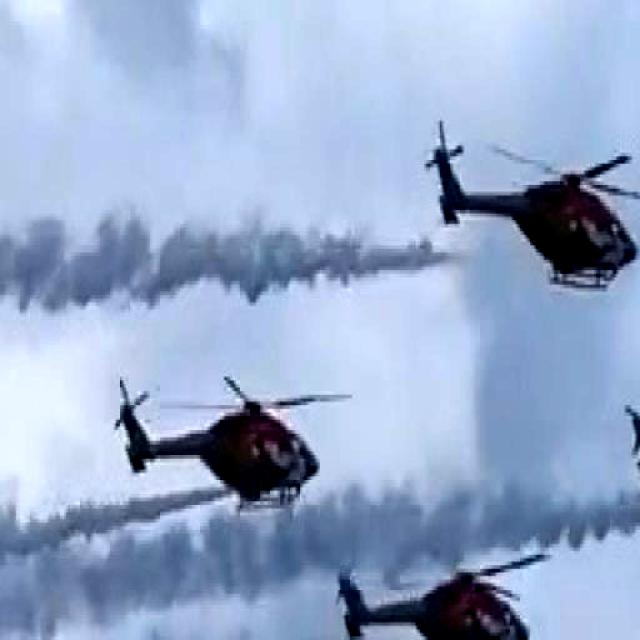drone: (425, 90, 640, 305), (108, 354, 352, 519), (324, 522, 562, 640)
